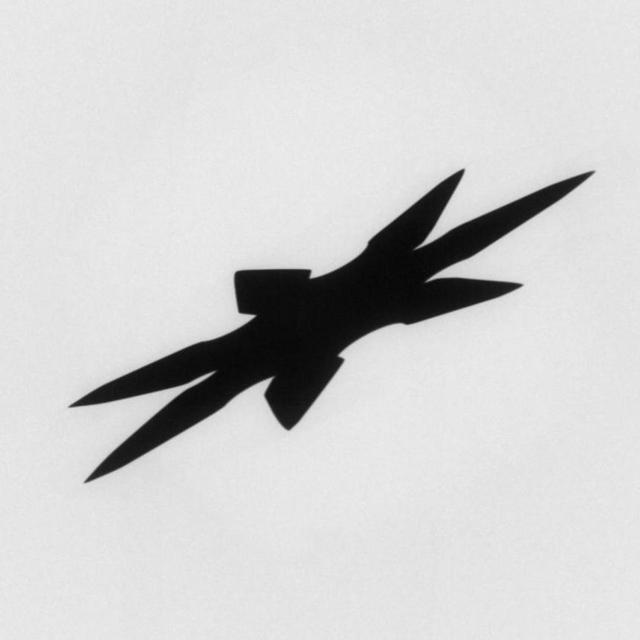shuriken: (63, 168, 601, 487)
